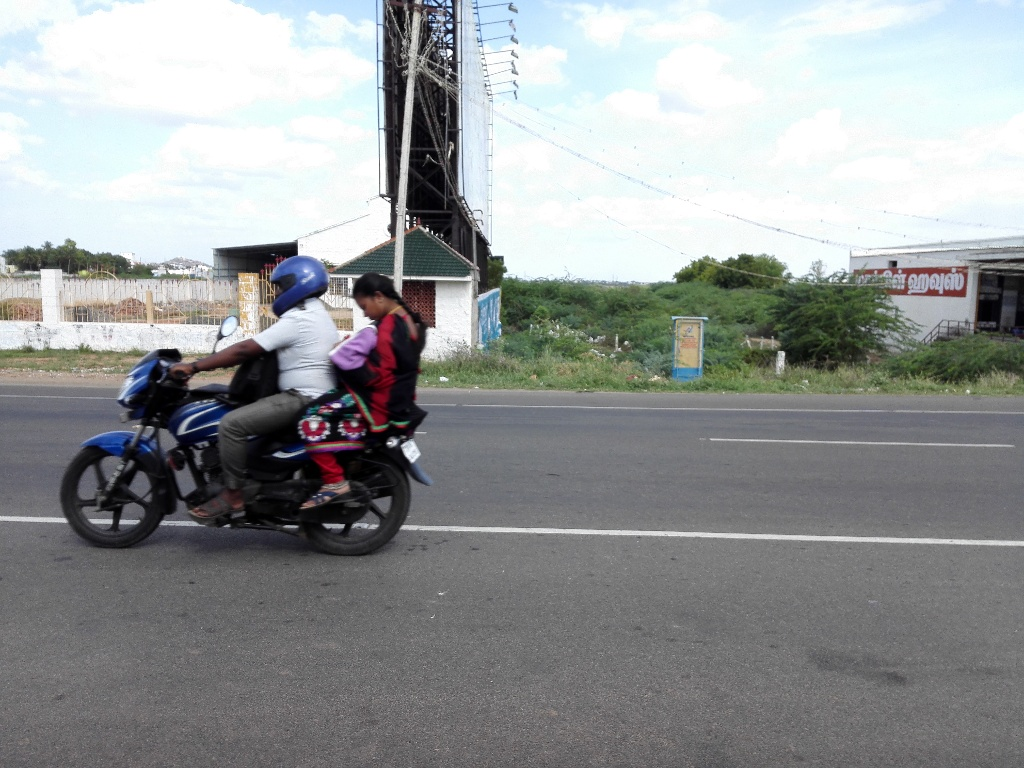biker: (40, 208, 471, 568)
helmet: (261, 237, 345, 328)
nohelmet: (347, 256, 407, 327)
